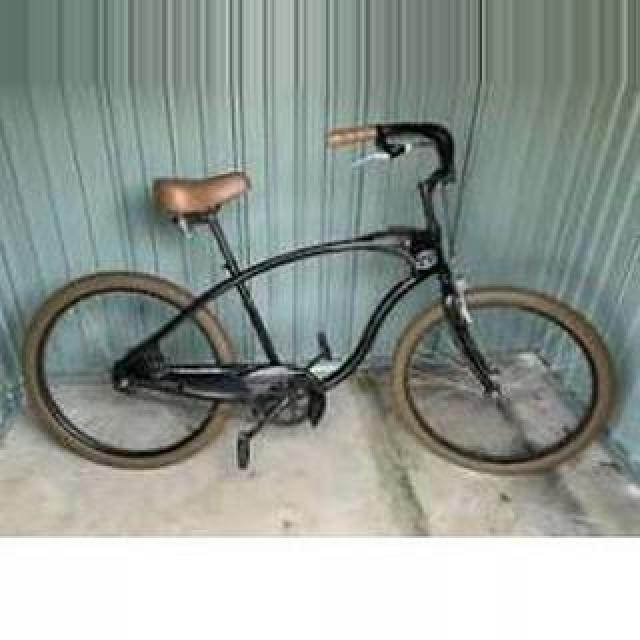Person: (21, 116, 617, 474)
